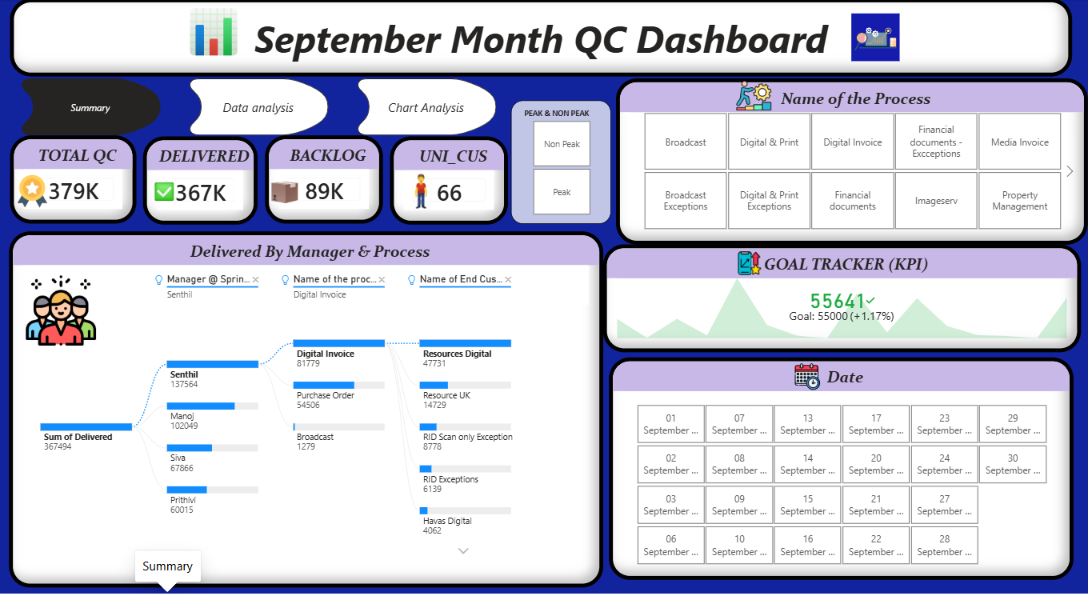

Layout of this report page (visuals, bound fields, positions):
{"tool":"powerbi","page":{"name":"Summary","canvas":[1550,850],"ordinal":0},"visuals":[{"type":"textbox","box":[14.2,0,1512.6,111.1],"z":0},{"type":"cardVisual","title":"       TOTAL QC","fields":{"Data":["Sum(Fact Table.Capacity of QC / Sampling per day)"]},"box":[14.2,195.1,180.3,125.5],"z":0,"group":"g1"},{"type":"group","id":"g1","title":"Group 1","box":[14.2,195.1,709.3,126.8],"z":1000},{"type":"pageNavigator","box":[14.2,113.9,709.3,81.2],"z":2000},{"type":"cardVisual","title":"BACKLOG","fields":{"Data":["Sum(Fact Table.Backlog (Error))"]},"box":[377,195.3,168.4,125.5],"z":2000,"group":"g1"},{"type":"cardVisual","title":"DELIVERED","fields":{"Data":["Sum(Fact Table.Delivered)"]},"box":[204.1,196.3,163.6,125.5],"z":3000,"group":"g1"},{"type":"decompositionTreeVisual","title":"Delivered By Manager & Process","fields":{"Analyze":["Sum(Fact Table.Delivered)"],"ExplainBy":["Manager_Dim.Manager @ Springbord","Process_dim.Name of the process","Cus_Dim.Name of End Customer"]},"box":[12.8,331.9,846,507],"z":3000},{"type":"slicer","title":"Name of the Process","fields":{"Values":["Process_dim.Name of the process"]},"box":[877.4,113.9,672.3,236.4],"z":4000},{"type":"cardVisual","title":"UNI_CUS","fields":{"Data":["CountNonNull(Cus_Dim.CUS_ID)"]},"box":[554.9,196.6,168.4,125.5],"z":4000,"group":"g1"},{"type":"kpi","title":"GOAL TRACKER (KPI)","fields":{"Goal":["Sum(Fact Table.Capacity of QC / Sampling per day)"],"Indicator":["Sum(Fact Table.Delivered)"],"TrendLine":["Process_dim.Name of the process"]},"box":[858.8,350.4,680.8,153.8],"z":5000},{"type":"slicer","fields":{"Values":["Fact Table.PEAK & NON PEAK"]},"box":[728.5,145.4,142.5,175.9],"z":6000},{"type":"slicer","title":"Date ","fields":{"Values":["Fact Table.Date"]},"box":[868.1,511.8,661.6,317],"z":7000},{"type":"image","box":[195.1,0,217.9,95.4],"z":8000},{"type":"image","box":[1169.3,21.4,155.2,68.4],"z":9000},{"type":"image","box":[210.8,255.9,46.5,37.8],"z":10000},{"type":"image","box":[567.1,248.6,65.4,50.9],"z":11000},{"type":"image","box":[381,255.9,50.9,39.3],"z":12000},{"type":"image","box":[23.3,250.1,46.5,48],"z":13000},{"type":"image","box":[1030.9,360.6,72.7,33.4],"z":14000},{"type":"image","box":[1118.2,520.5,64,37.8],"z":15000},{"type":"image","box":[1046.9,112,53.8,52.3],"z":16000},{"type":"image","box":[13.1,394,148.3,100.3],"z":17000}]}

Visuals, with their boxes in screenshot pixels (x1, y1, x2, y2), scaled from the page's 1550x850 canvas onto the 1088x594 screenshot:
textbox: box=[10, 0, 1072, 78]
"       TOTAL QC" cardVisual: box=[10, 136, 137, 224]
"Group 1" group: box=[10, 136, 508, 225]
pageNavigator: box=[10, 80, 508, 136]
"BACKLOG" cardVisual: box=[265, 136, 383, 224]
"DELIVERED" cardVisual: box=[143, 137, 258, 225]
"Delivered By Manager & Process" decompositionTreeVisual: box=[9, 232, 603, 586]
"Name of the Process" slicer: box=[616, 80, 1087, 245]
"UNI_CUS" cardVisual: box=[390, 137, 508, 225]
"GOAL TRACKER (KPI)" kpi: box=[603, 245, 1081, 352]
slicer - Fact Table.PEAK & NON PEAK: box=[511, 102, 611, 225]
"Date " slicer: box=[609, 358, 1074, 579]
image: box=[137, 0, 290, 67]
image: box=[821, 15, 930, 63]
image: box=[148, 179, 181, 205]
image: box=[398, 174, 444, 209]
image: box=[267, 179, 303, 206]
image: box=[16, 175, 49, 208]
image: box=[724, 252, 775, 275]
image: box=[785, 364, 830, 390]
image: box=[735, 78, 773, 115]
image: box=[9, 275, 113, 345]
